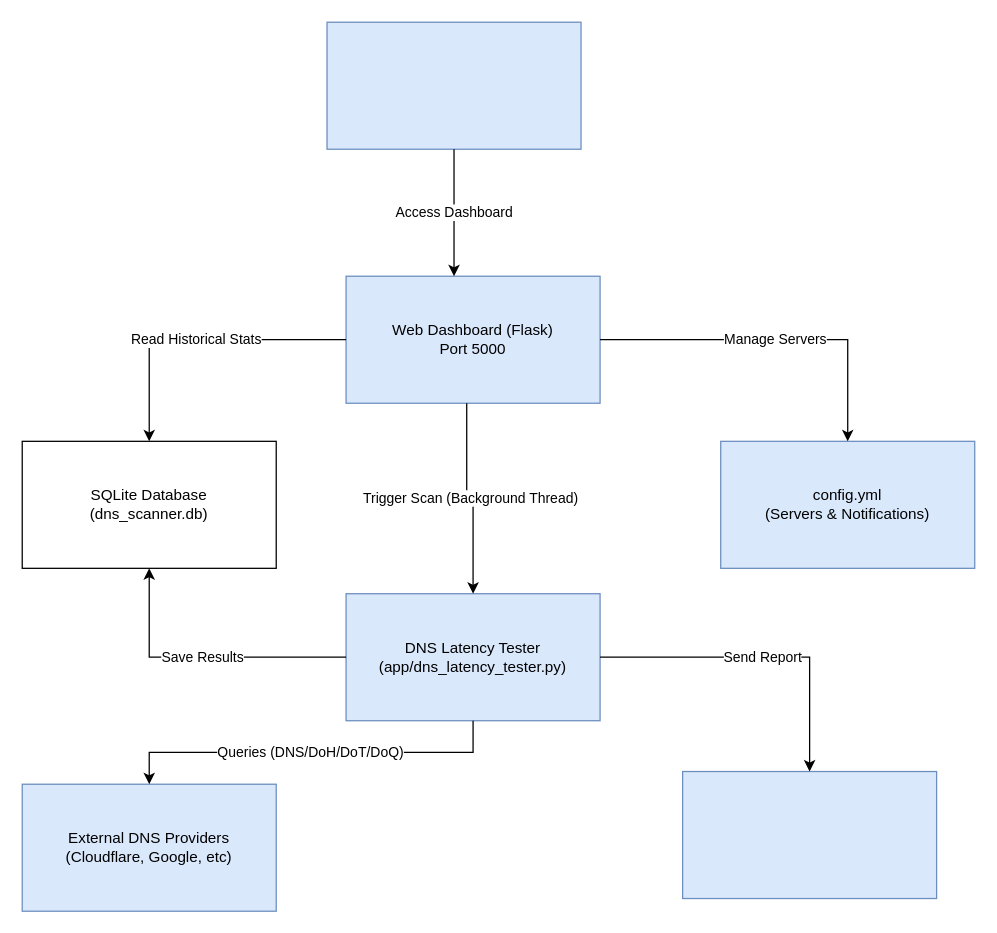
Image size: 997x933. Some labels were removed from this diagram. Here are the shapes that lost their labels. From the top down, the centre of each, then its label:
the point at 453,85: User / Browser (Port 5000)
the point at 809,834: Slack Notifications (Webhook)
